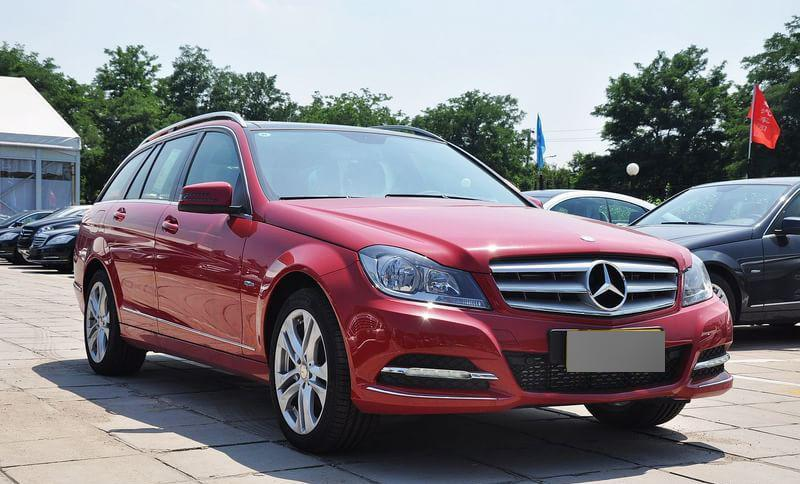Wagon: (72, 109, 734, 456)
